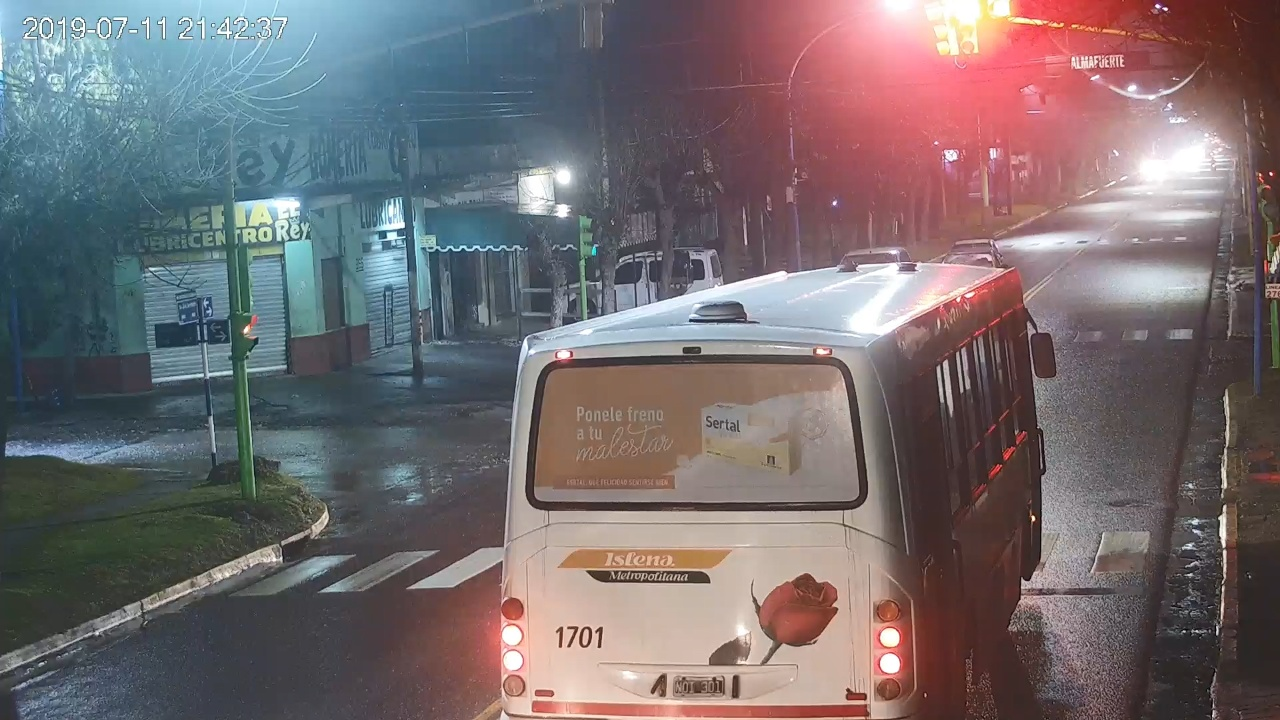bus: (500, 262, 1056, 720)
traffic light: (957, 2, 981, 55)
